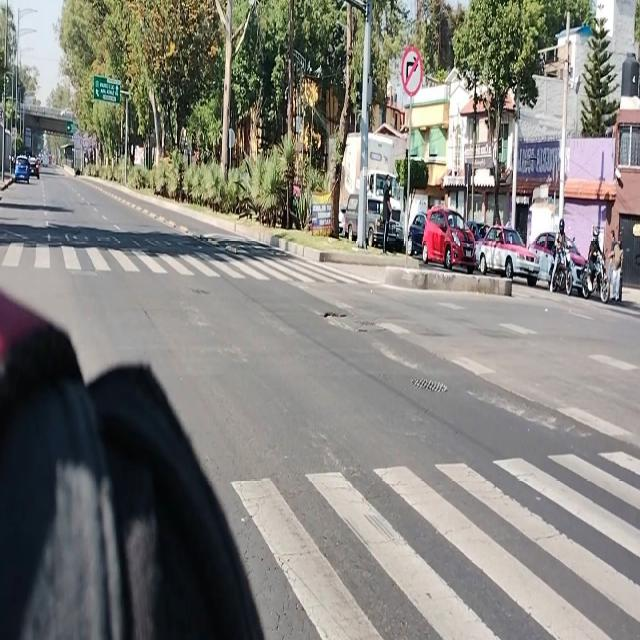adult: (550, 220, 567, 293), (588, 226, 603, 291), (610, 232, 623, 300)
